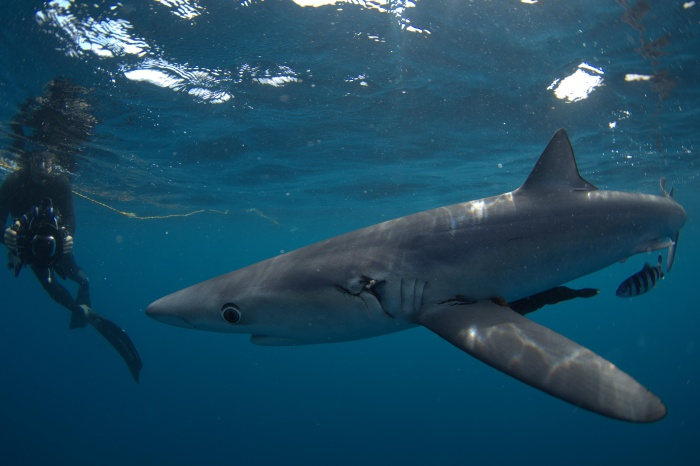Azul: (118, 128, 700, 422)
